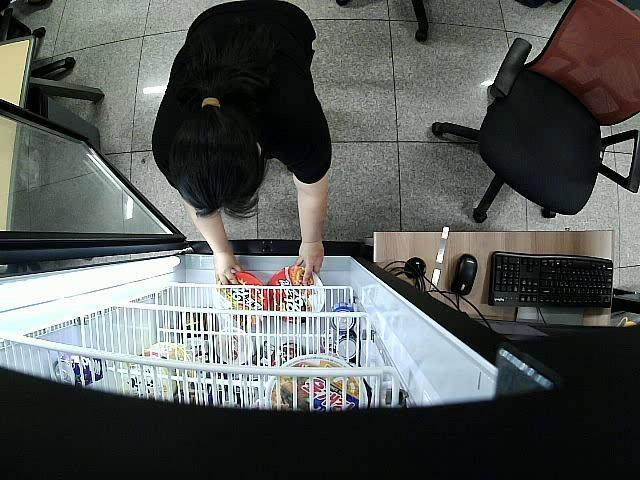10_wangTtukkeong: (266, 266, 326, 326), (216, 274, 266, 326)
